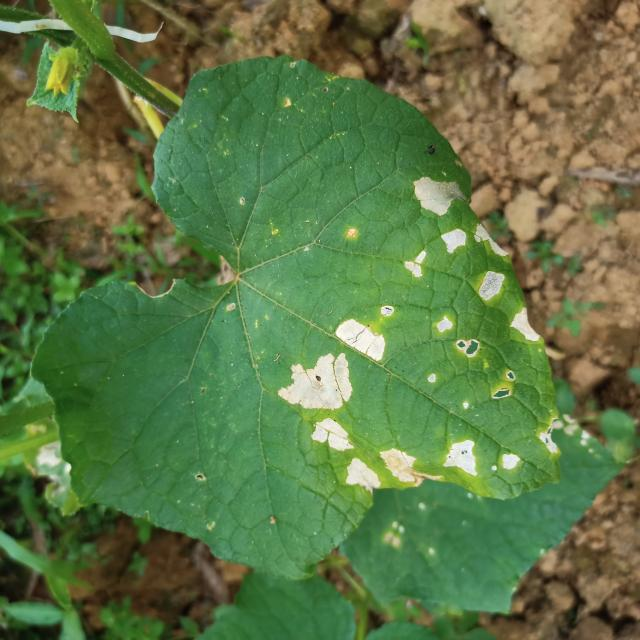disease_cucumber: (276, 318, 385, 410), (402, 170, 467, 286), (444, 439, 522, 479), (344, 450, 416, 491), (474, 222, 509, 301), (436, 314, 483, 365), (310, 418, 357, 454), (510, 304, 539, 344)
